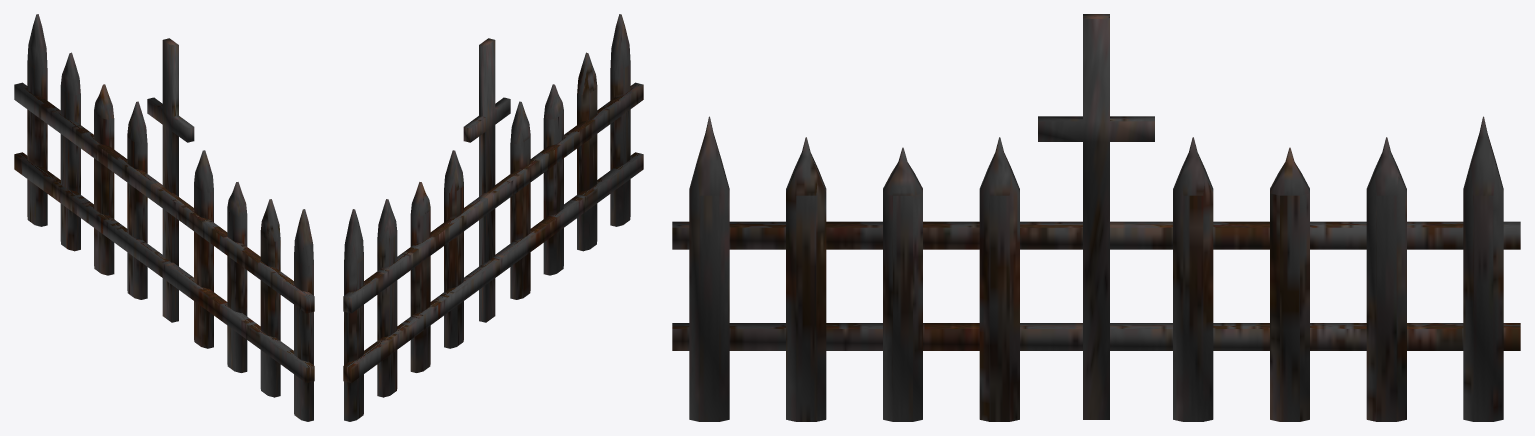
Rendered from FenceGate.obj.
3 views of the same model, side by side, from view 1: azimuth 30°, elevation 25°; view 2: azimuth 150°, elevation 25°; view 3: azimuth 270°, elevation 25° (orthographic). The views are drawn at different scales.
Visible parts, largest first — view 1: Ograda_(1); view 2: Ograda_(1); view 3: Ograda_(1).
Boxes of the visible parts, bbox=[...] form: Ograda_(1): bbox=[14, 14, 314, 421]; Ograda_(1): bbox=[343, 14, 643, 421]; Ograda_(1): bbox=[672, 14, 1520, 421].
Bounding box in the file's own units: 0.0537 × 0.8483 × 1.63.
Materials: 1 (1 with a texture image).
